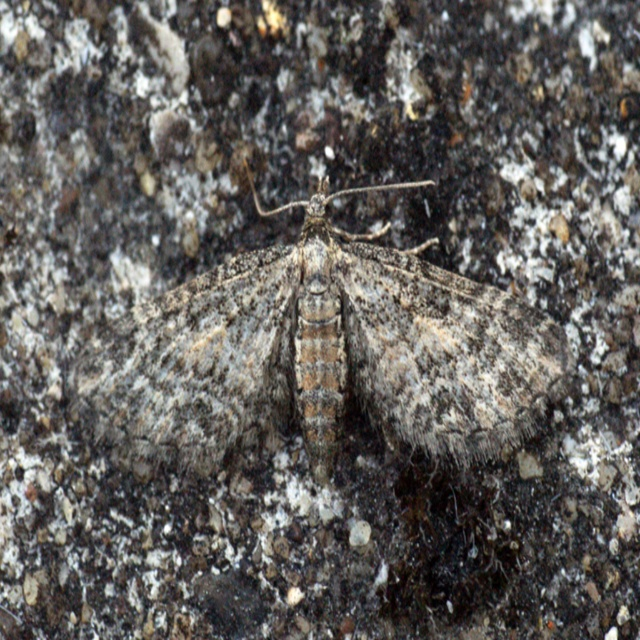Moths and butterflies: (62, 155, 581, 499)
